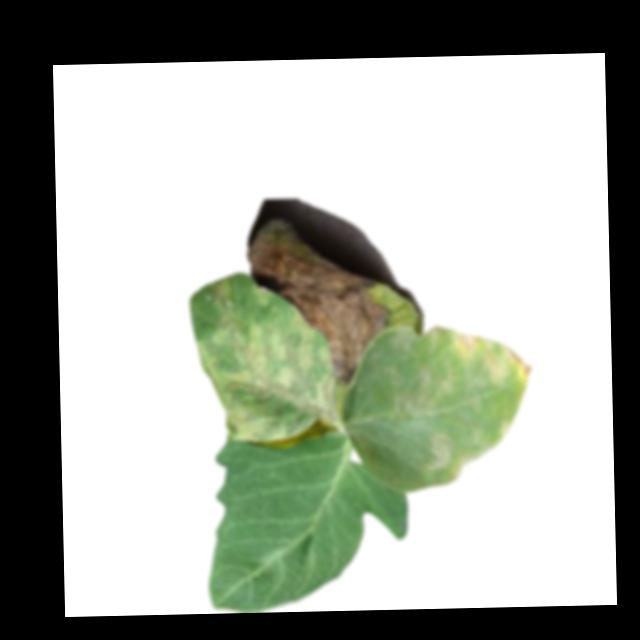Late_blight: (189, 269, 335, 444), (247, 216, 391, 391), (449, 328, 530, 391), (425, 429, 488, 482), (390, 392, 433, 420)
